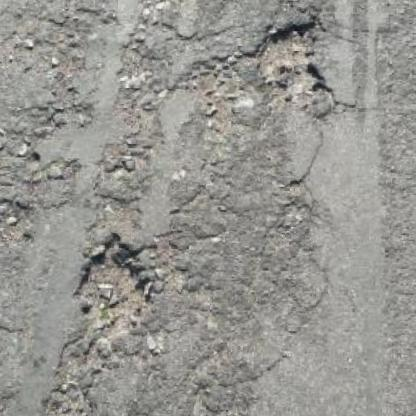pothole: (72, 229, 155, 337), (251, 14, 334, 114)
